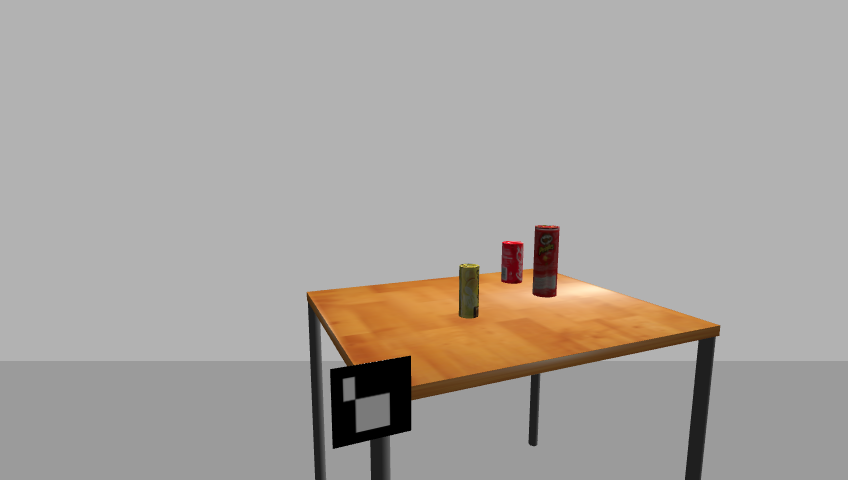aruco marker: (323, 355, 417, 451)
biscuits pack: (457, 263, 481, 320)
coke can: (500, 241, 525, 285)
dinner table: (299, 270, 731, 478)
pringles can: (532, 225, 562, 299)
